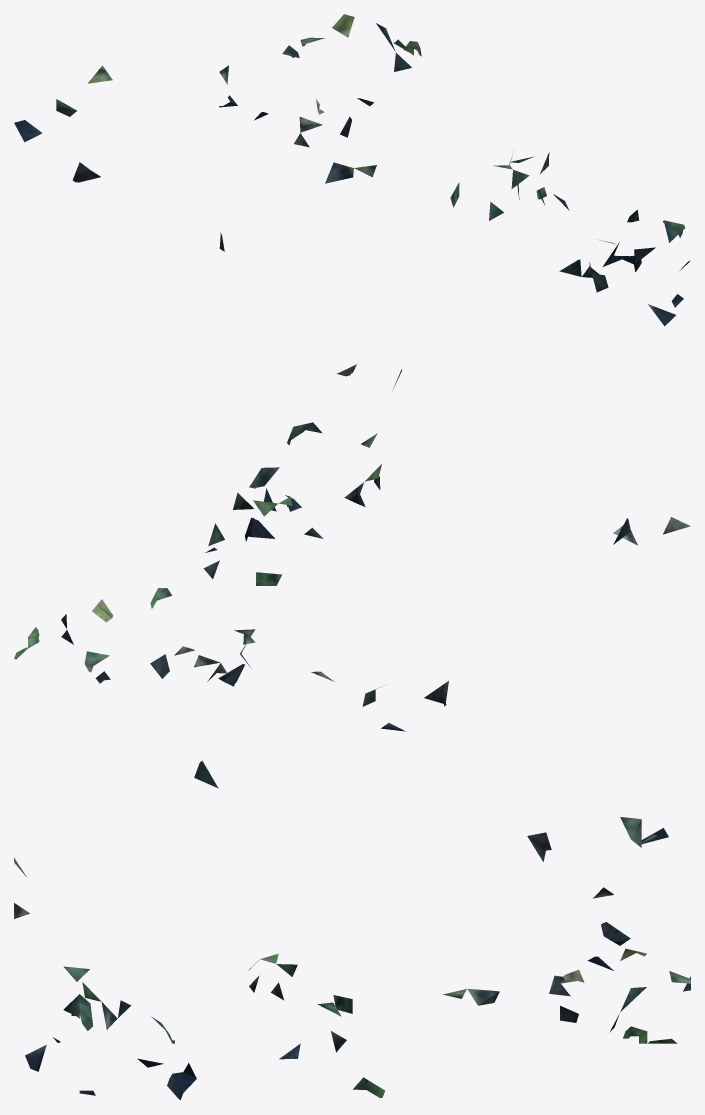
3 views of the same model, one above another, from view 1: azimuth 30°, elevation 25°; view 2: azimuth 150°, elevation 25°; view 3: azimuth 270°, elevation 25° (orthographic). The views are drawn at different scales.
Parts seen in each view (by area): view 1: 3043627270437040643_1; view 2: 3043627270437040643_1; view 3: 3043627270437040643_1.
Boxes of the visible parts, <box> form: 3043627270437040643_1: <box>14,14,689,390</box>; 3043627270437040643_1: <box>14,422,690,731</box>; 3043627270437040643_1: <box>14,760,690,1099</box>.
Bounding box in the file's own units: 54.63 × 16.94 × 76.52.
Materials: 1 (1 with a texture image).
